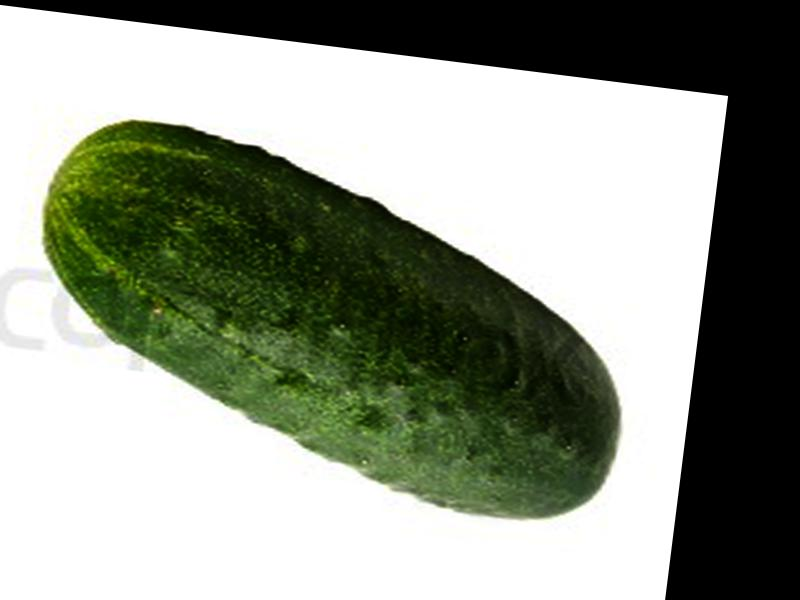Cucumber: (12, 115, 649, 533)
